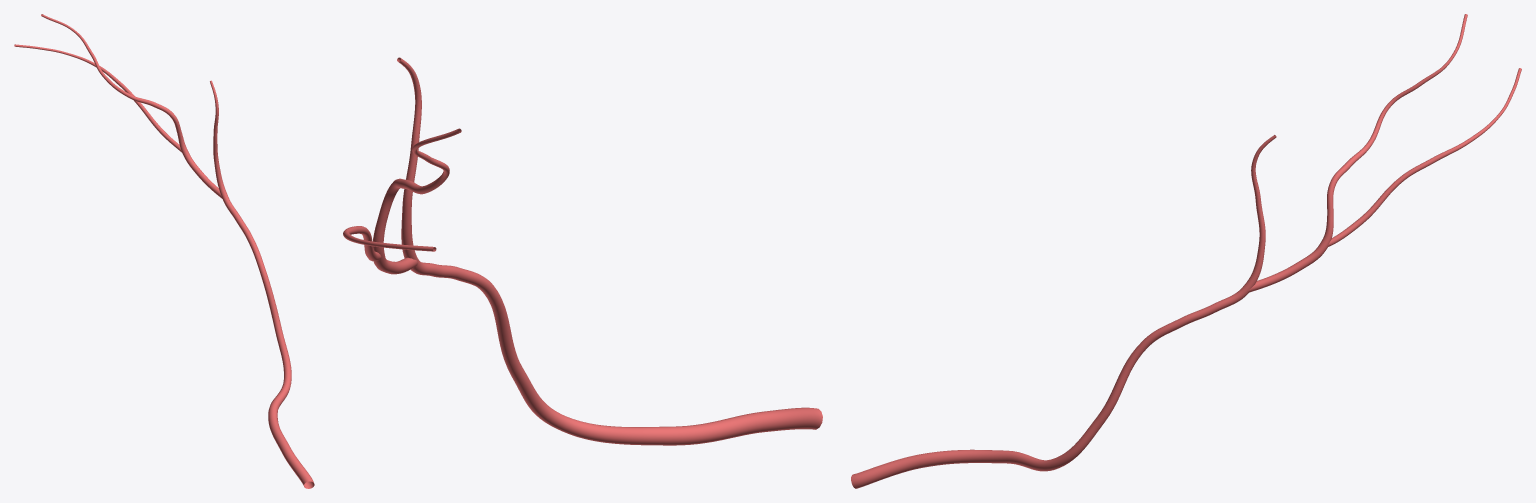
Rendered from Parieto-occipital_artery.r_BezierCurve.226.glb.
3 views of the same model, side by side, from view 1: azimuth 30°, elevation 25°; view 2: azimuth 150°, elevation 25°; view 3: azimuth 270°, elevation 25° (orthographic). The views are drawn at different scales.
Parts seen in each view (by area): view 1: Parieto-occipital_artery.r_BezierCurve.226; view 2: Parieto-occipital_artery.r_BezierCurve.226; view 3: Parieto-occipital_artery.r_BezierCurve.226.
Boxes of the visible parts, bbox=[...] form: Parieto-occipital_artery.r_BezierCurve.226: bbox=[14, 14, 314, 488]; Parieto-occipital_artery.r_BezierCurve.226: bbox=[343, 57, 822, 445]; Parieto-occipital_artery.r_BezierCurve.226: bbox=[851, 14, 1521, 488].
Size of the model in its own units: 0.0168 by 0.0451 by 0.0618.
